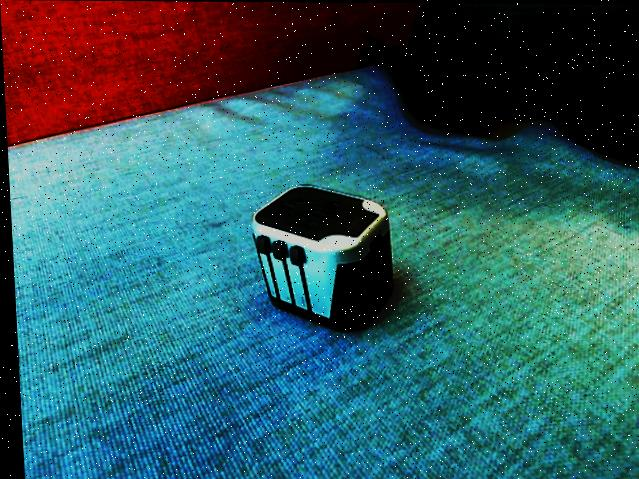adapter: (247, 184, 394, 332)
